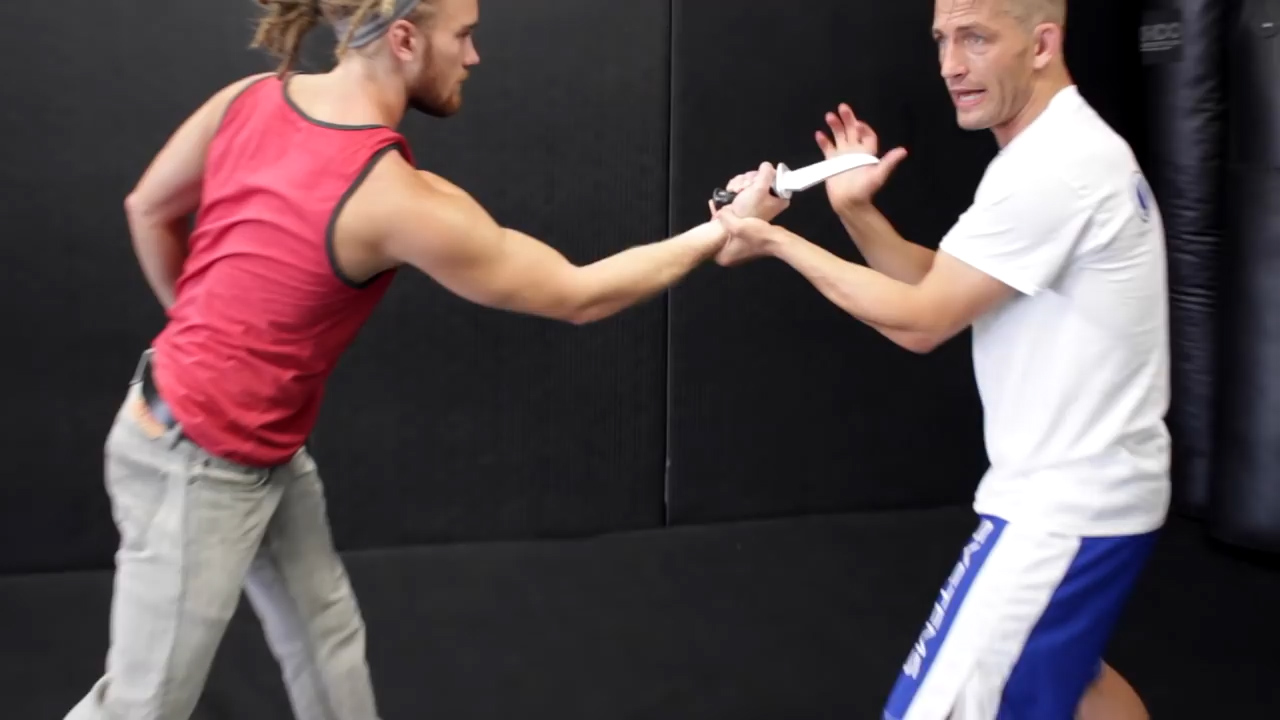knife: (702, 139, 892, 224)
